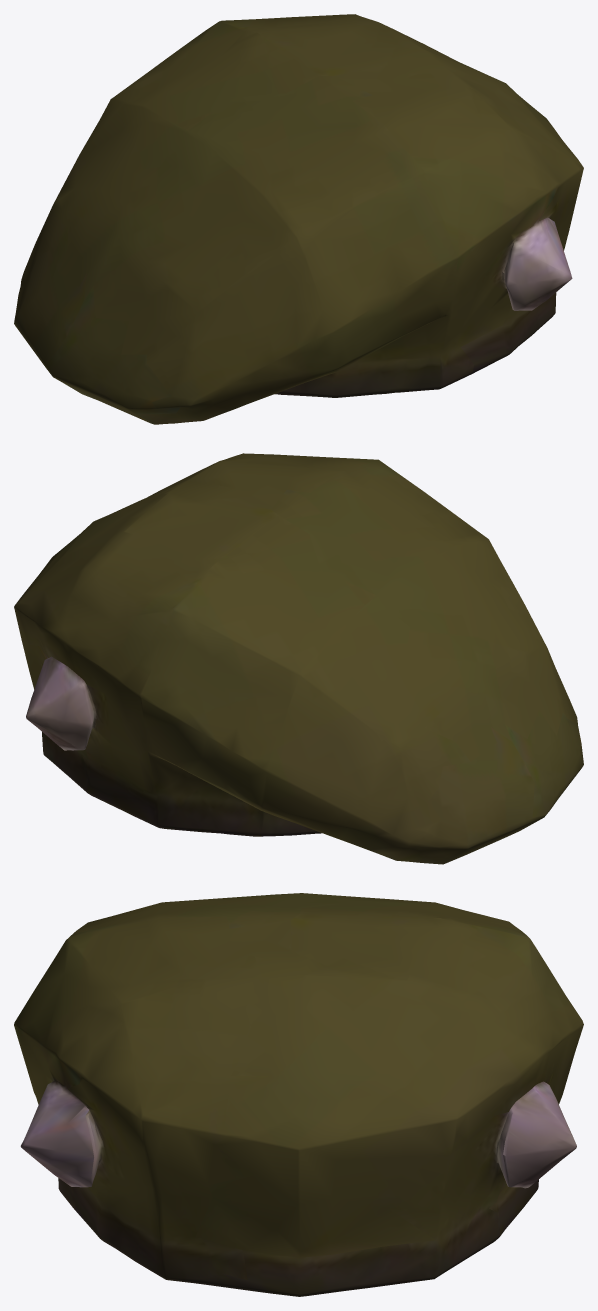
File: hat_gr_beret_idle.glb
3 renders of one model, top to bottom at view 1: azimuth 30°, elevation 25°; view 2: azimuth 150°, elevation 25°; view 3: azimuth 270°, elevation 25°, orthographic. The views are drawn at different scales.
Visible parts, largest first — view 1: hat_gr_beret; view 2: hat_gr_beret; view 3: hat_gr_beret.
Part boxes in pixels (x1,y1,x2,y2): hat_gr_beret: (14, 14, 583, 424); hat_gr_beret: (14, 453, 583, 864); hat_gr_beret: (14, 893, 583, 1296).
Size of the model in its own units: 0.2462 by 0.1233 by 0.2181.
Materials: 1 (1 with a texture image).
